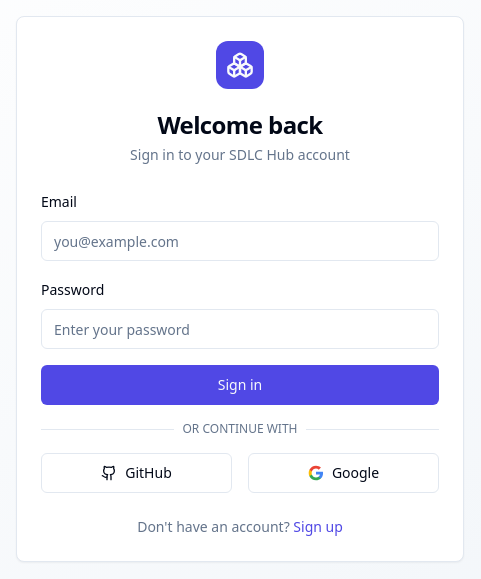
LoginPage › should disable the submit button while login is in progress
// Act — fill and submit the form
In the field labelled "Email": (240, 241) 41,221 -> 439,261, type "user@example.com"
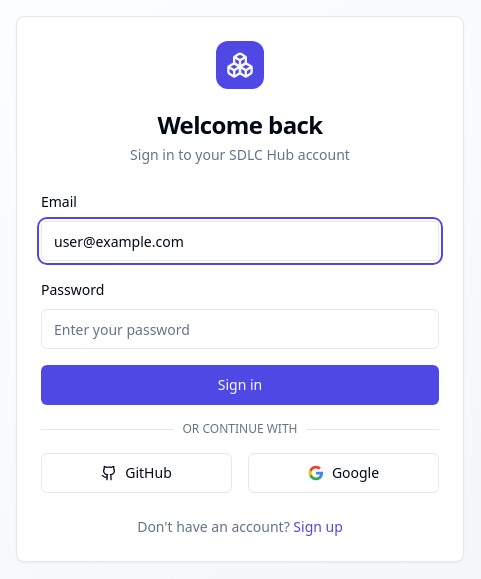
In the password field labelled "Password": (240, 329) 41,309 -> 439,349, type "password123"
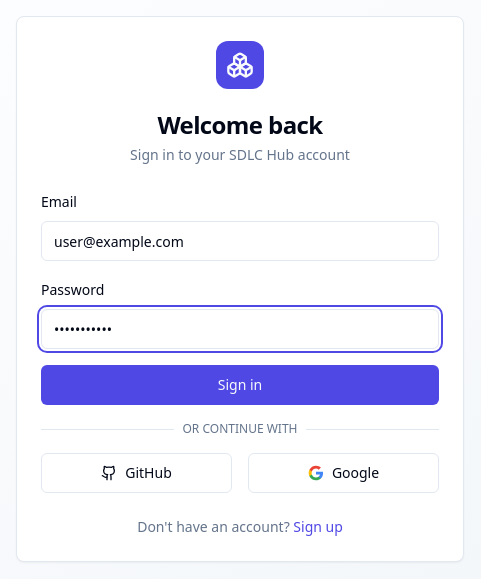
Click the button "Sign in": (240, 385) 41,365 -> 439,405
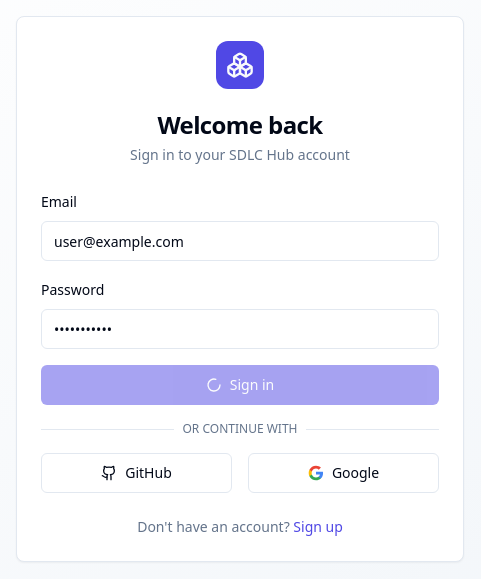
Now the button "Sign in" is disabled, box 41,365 -> 439,405
